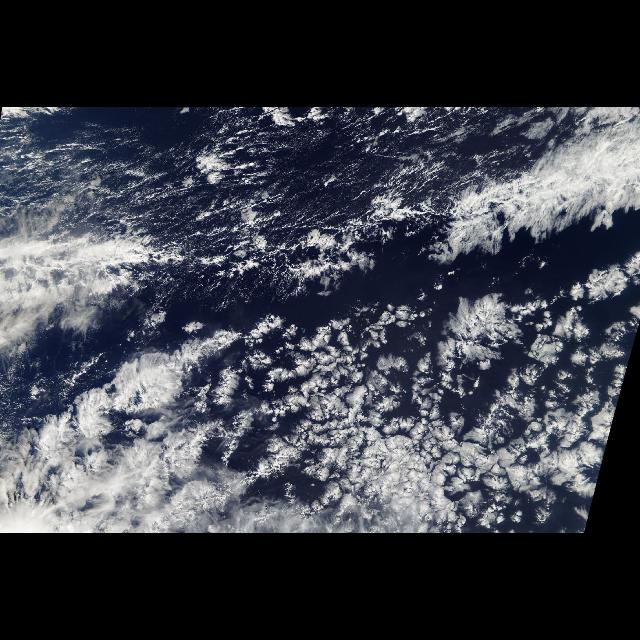Fish: (9, 236, 397, 300), (408, 180, 546, 253)
Flower: (248, 263, 634, 522)
Gravel: (2, 120, 400, 232)
